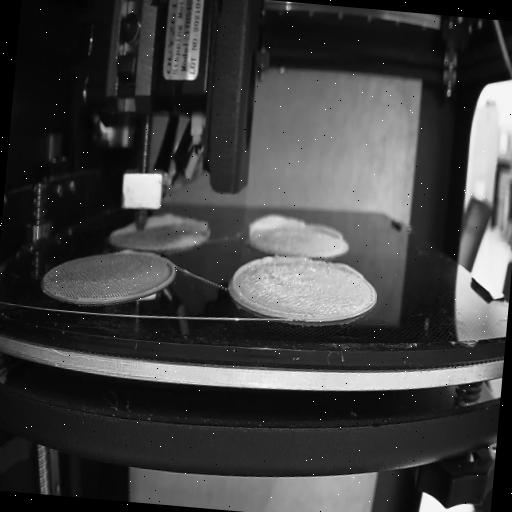over_extrusion: (229, 246, 308, 319), (145, 208, 212, 239), (245, 210, 308, 240), (331, 258, 366, 279), (108, 216, 136, 242), (311, 220, 344, 242), (116, 245, 140, 259)
